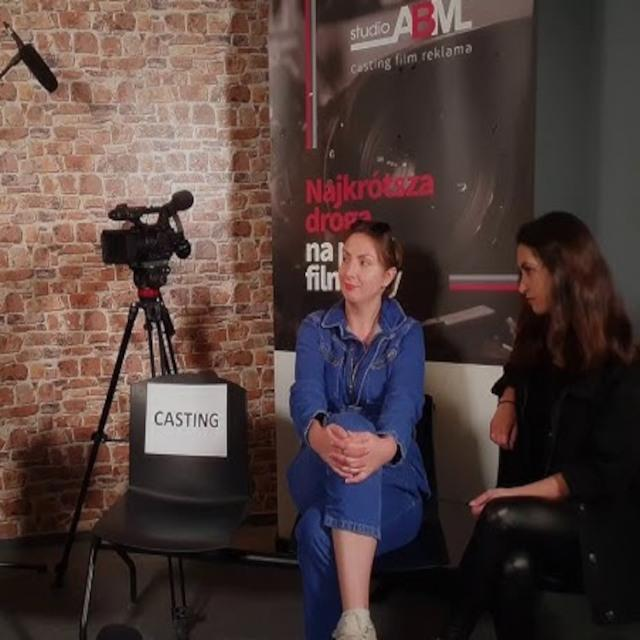kobieta: (485, 211, 640, 640), (291, 224, 436, 638)
